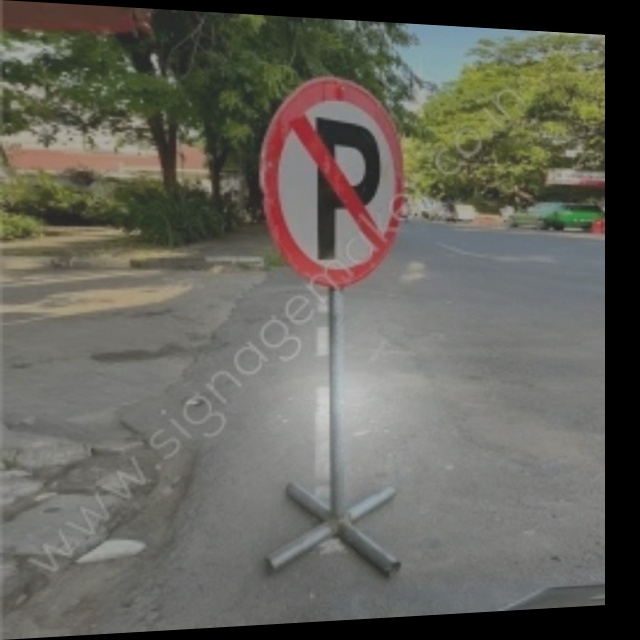No_Parking: (262, 72, 407, 288)
